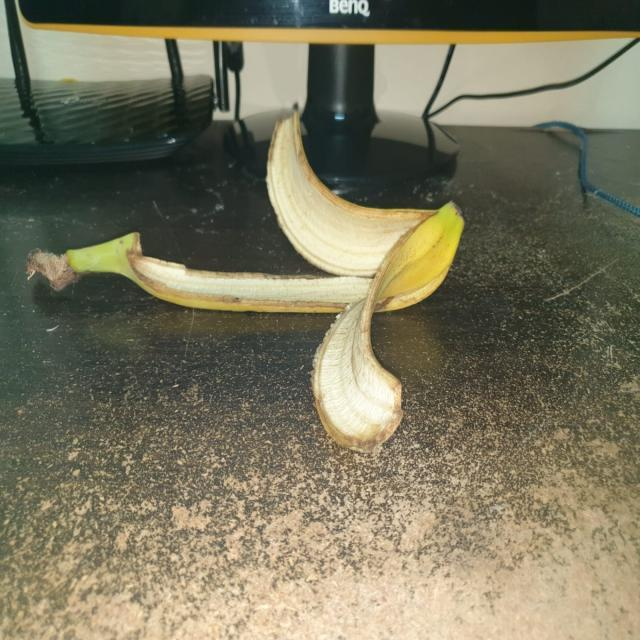banana-peel: (25, 106, 465, 450)
